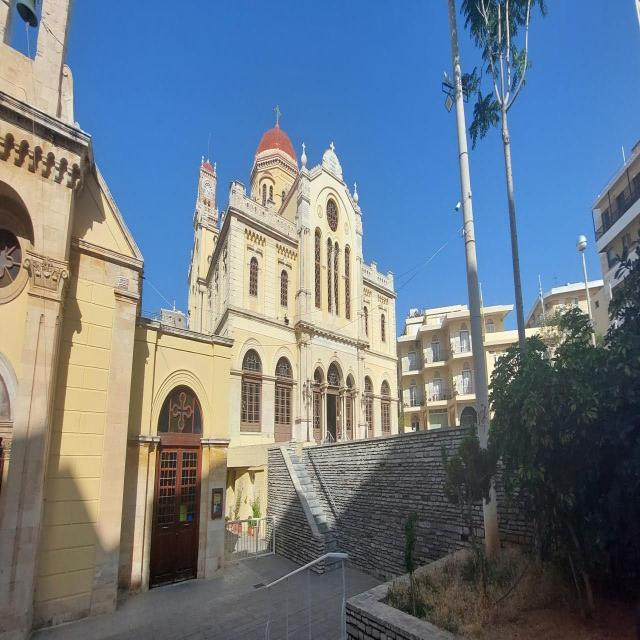Agios Minas: (2, 4, 400, 582)
